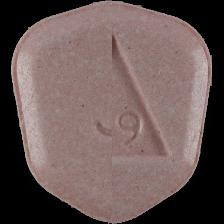63187-253: (0, 0, 224, 224)
